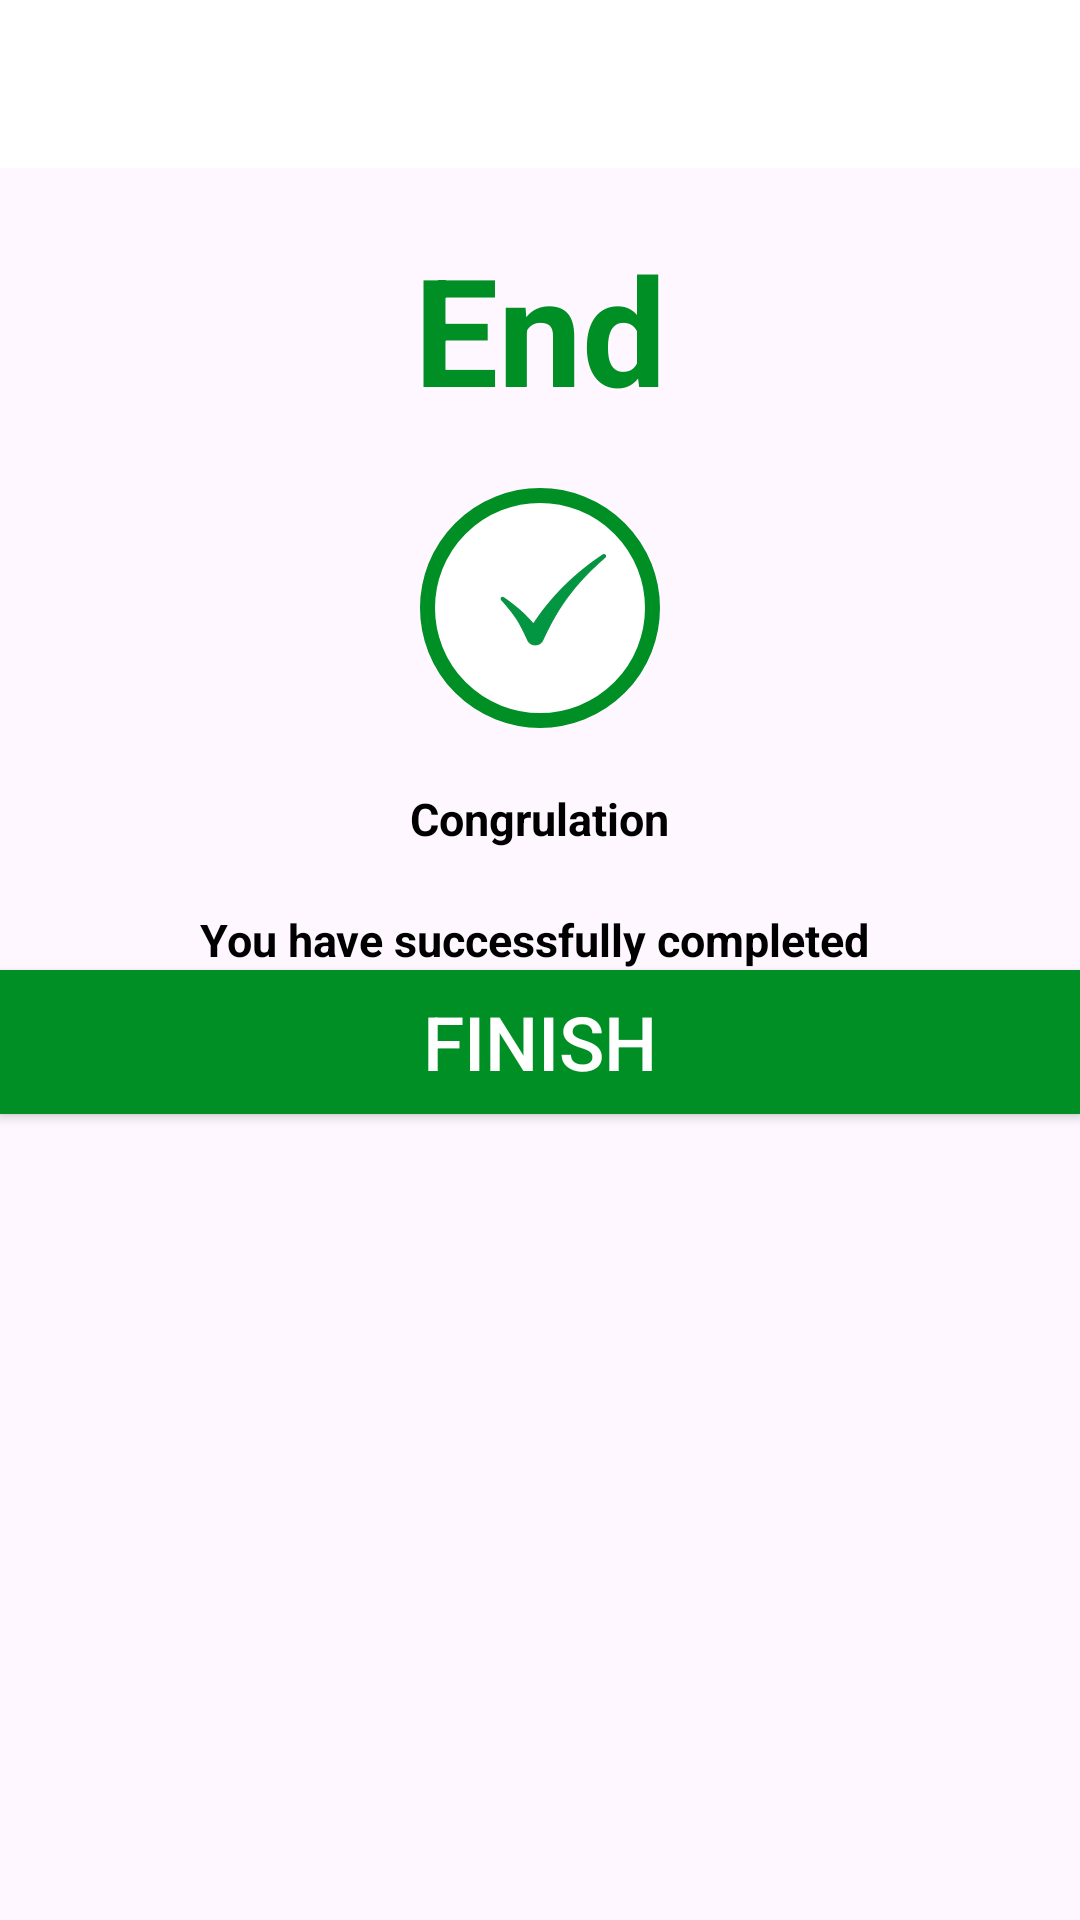

Icon bounding boxes for this 1080w x 1920h phone screenshot, format (x1, y1, x2, y2):
rigt: (420, 488, 660, 728)
